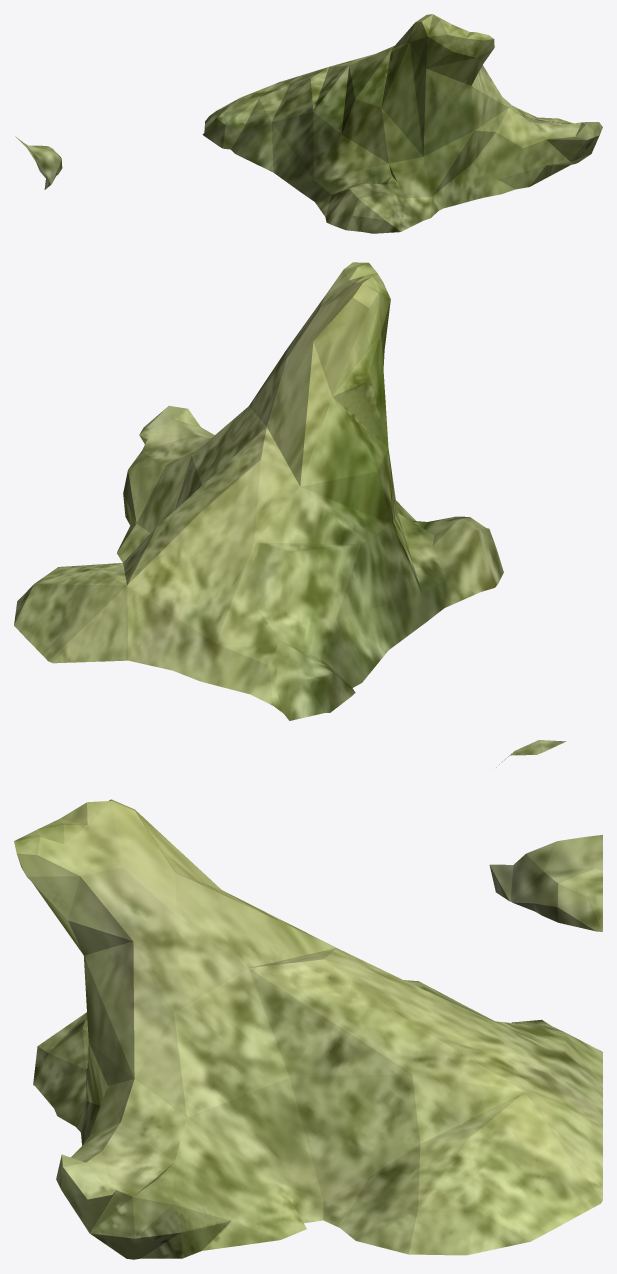
The picture shows the model from 3 angles, top to bottom: view 1: azimuth 30°, elevation 25°; view 2: azimuth 150°, elevation 25°; view 3: azimuth 270°, elevation 25°; orthographic projection. The views are drawn at different scales.
Size of the model in its own units: 2.93 by 1.19 by 1.93.
2 materials, 2 textured.
